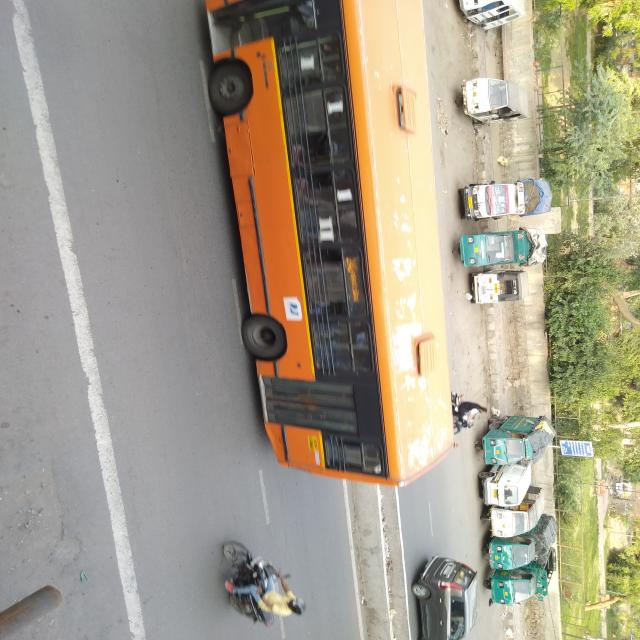Bus: (202, 0, 464, 487)
